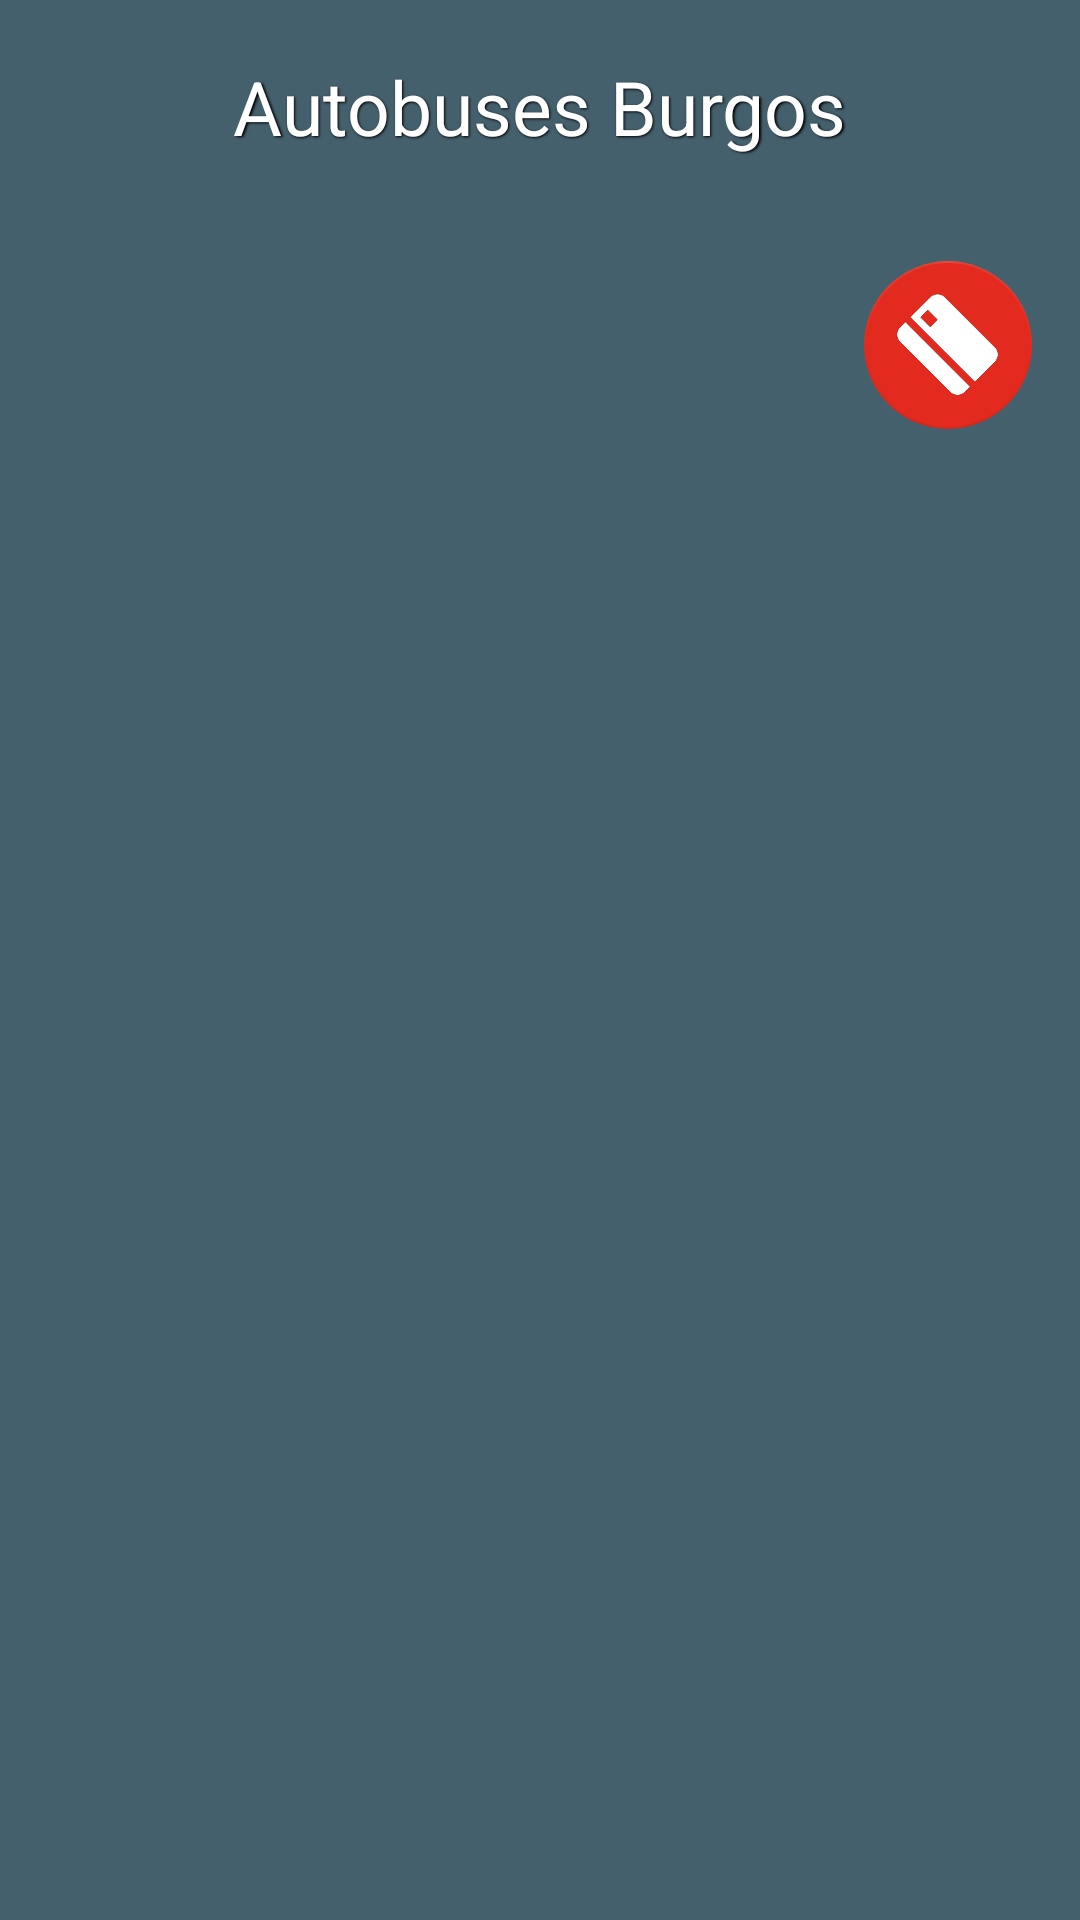

Point at icon controls on the screen. Image size 1080x1920, points as (x=x, y=y).
tarjeta: (x=948, y=345)
